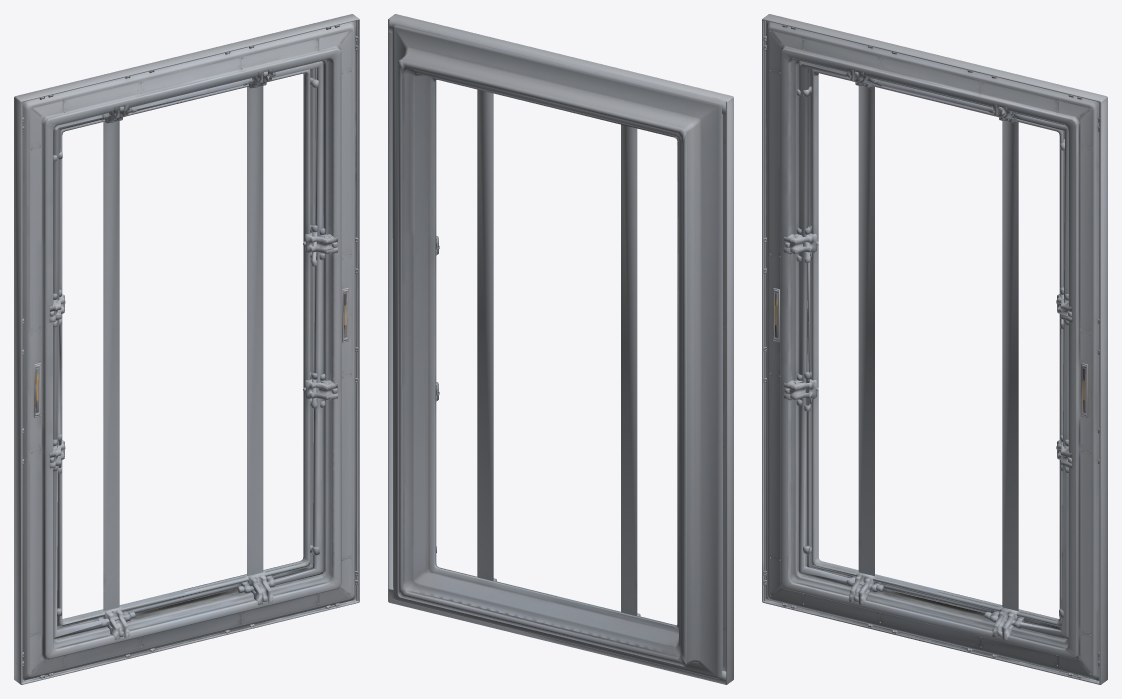
The model's file is tripo_convert_bb382278-b0c8-42e6-97ef-5e8e5bd4f004.fbx.
3 views of the same model, side by side, from view 1: azimuth 30°, elevation 25°; view 2: azimuth 150°, elevation 25°; view 3: azimuth 330°, elevation 25° (orthographic).
Parts seen in each view (by area): view 1: tripo_part_0, tripo_part_167, tripo_part_5, tripo_part_7, tripo_part_132, tripo_part_151, tripo_part_116, tripo_part_129, tripo_part_107, tripo_part_3, tripo_part_6; view 2: tripo_part_0, tripo_part_5, tripo_part_167, tripo_part_151; view 3: tripo_part_0, tripo_part_167, tripo_part_5, tripo_part_132, tripo_part_7, tripo_part_151, tripo_part_107, tripo_part_129, tripo_part_116.
Part boxes in pixels (bbox=[...]): tripo_part_0: bbox=[14, 14, 359, 684]; tripo_part_167: bbox=[103, 25, 351, 633]; tripo_part_5: bbox=[247, 69, 272, 575]; tripo_part_7: bbox=[54, 61, 323, 639]; tripo_part_132: bbox=[53, 38, 358, 637]; tripo_part_151: bbox=[22, 27, 358, 625]; tripo_part_116: bbox=[356, 20, 357, 600]; tripo_part_129: bbox=[23, 36, 358, 604]; tripo_part_107: bbox=[22, 102, 22, 682]; tripo_part_3: bbox=[305, 232, 337, 254]; tripo_part_6: bbox=[305, 379, 337, 400]; tripo_part_0: bbox=[388, 14, 733, 684]; tripo_part_5: bbox=[477, 89, 493, 581]; tripo_part_167: bbox=[621, 124, 637, 616]; tripo_part_151: bbox=[556, 145, 678, 629]; tripo_part_0: bbox=[762, 14, 1107, 684]; tripo_part_167: bbox=[849, 69, 1090, 674]; tripo_part_5: bbox=[992, 104, 1018, 611]; tripo_part_132: bbox=[798, 63, 1099, 666]; tripo_part_7: bbox=[799, 61, 1068, 638]; tripo_part_151: bbox=[763, 27, 1099, 673]; tripo_part_107: bbox=[764, 20, 765, 600]; tripo_part_129: bbox=[765, 47, 1099, 655]; tripo_part_116: bbox=[1099, 102, 1099, 682].
Size of the model in its own units: 0.6079 by 0.9995 by 0.0806.
Materials: 1 (1 with a texture image).
